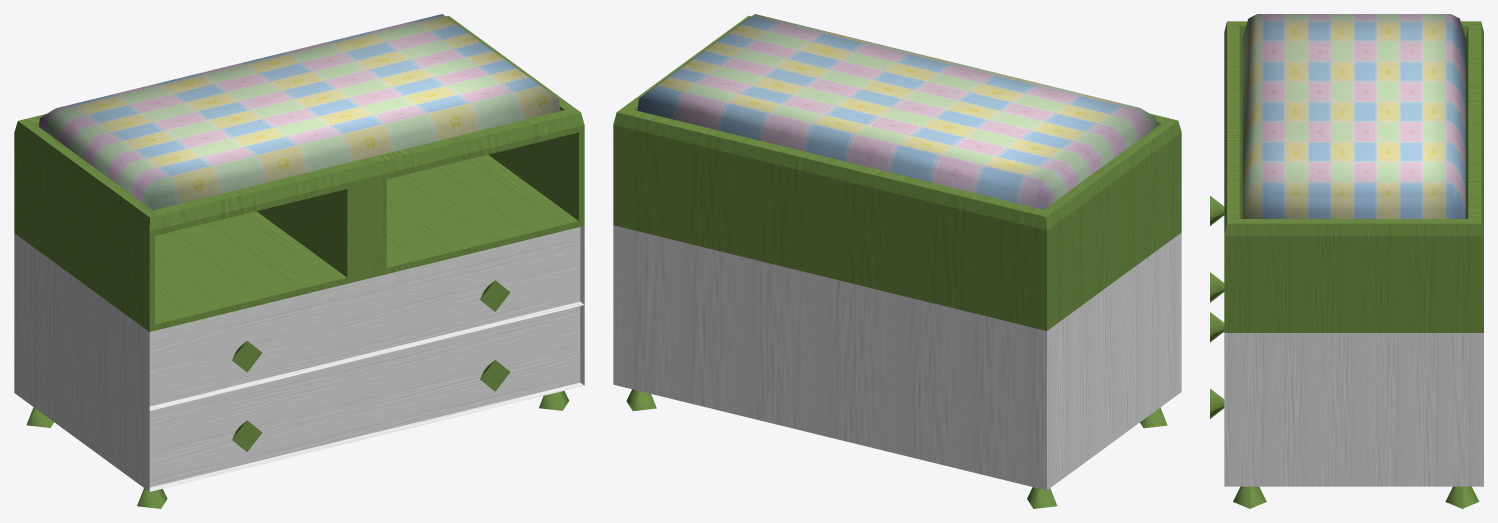
File: Changing_table_C.FBX
3 renders of one model, left to right at view 1: azimuth 30°, elevation 25°; view 2: azimuth 150°, elevation 25°; view 3: azimuth 270°, elevation 25°, orthographic. The views are drawn at different scales.
Parts seen in each view (by area): view 1: Changing table; view 2: Changing table; view 3: Changing table.
Boxes of the visible parts, x1=… form: Changing table: x1=14, y1=14, x2=584, y2=508; Changing table: x1=613, y1=14, x2=1181, y2=508; Changing table: x1=1210, y1=14, x2=1483, y2=508.
Size of the model in its own units: 163 by 113 by 92.29.
